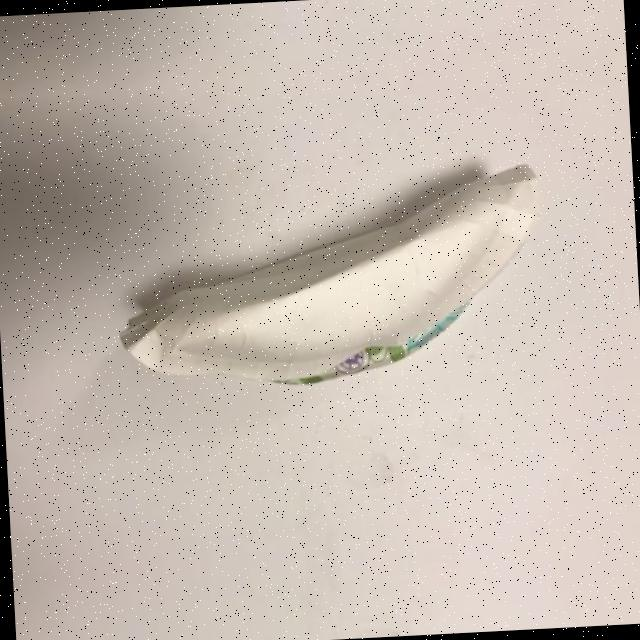paper: (82, 132, 586, 426), (74, 0, 565, 25)
